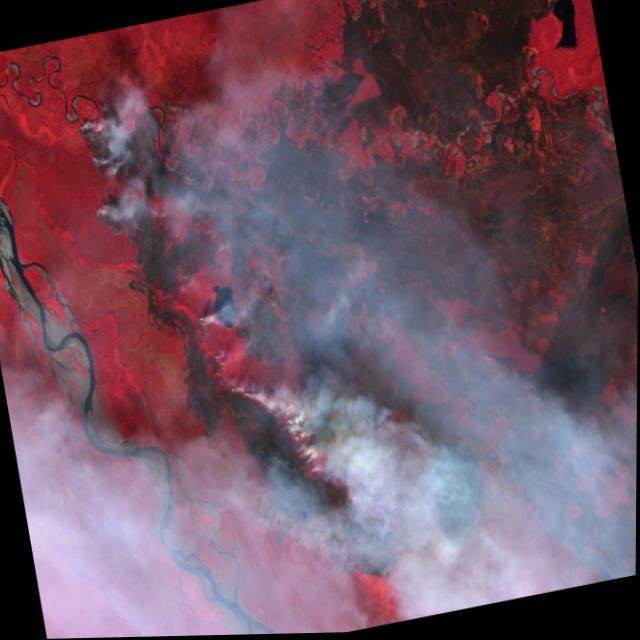fire: (220, 356, 341, 511), (85, 177, 148, 254), (66, 99, 121, 184), (187, 300, 218, 341)
